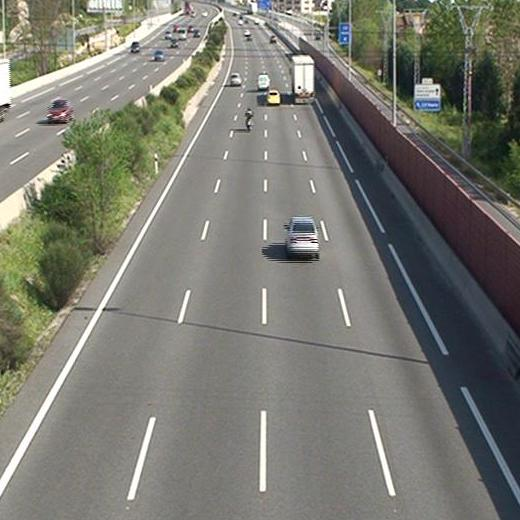car: (286, 218, 319, 256), (265, 89, 279, 105), (229, 72, 240, 87)
motorcycle: (245, 108, 253, 133)
truck: (290, 55, 316, 104)
van: (257, 74, 270, 92)
